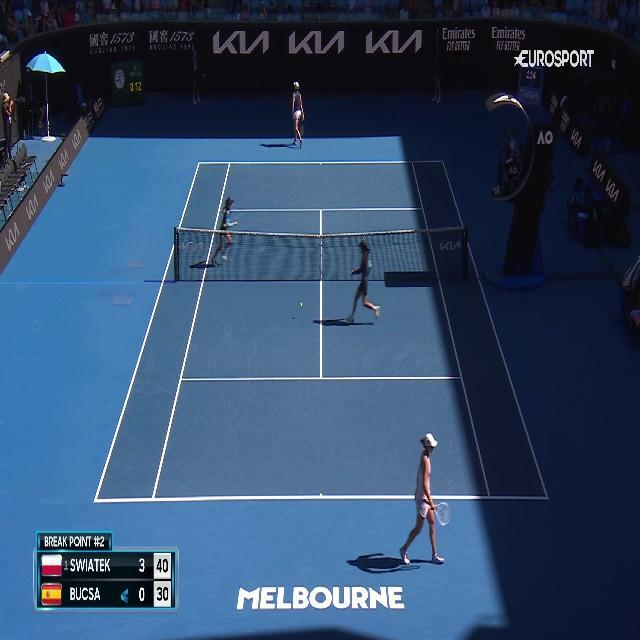left side: (412, 161, 548, 498), (95, 162, 230, 501)
player: (398, 432, 453, 568), (288, 79, 306, 150)
